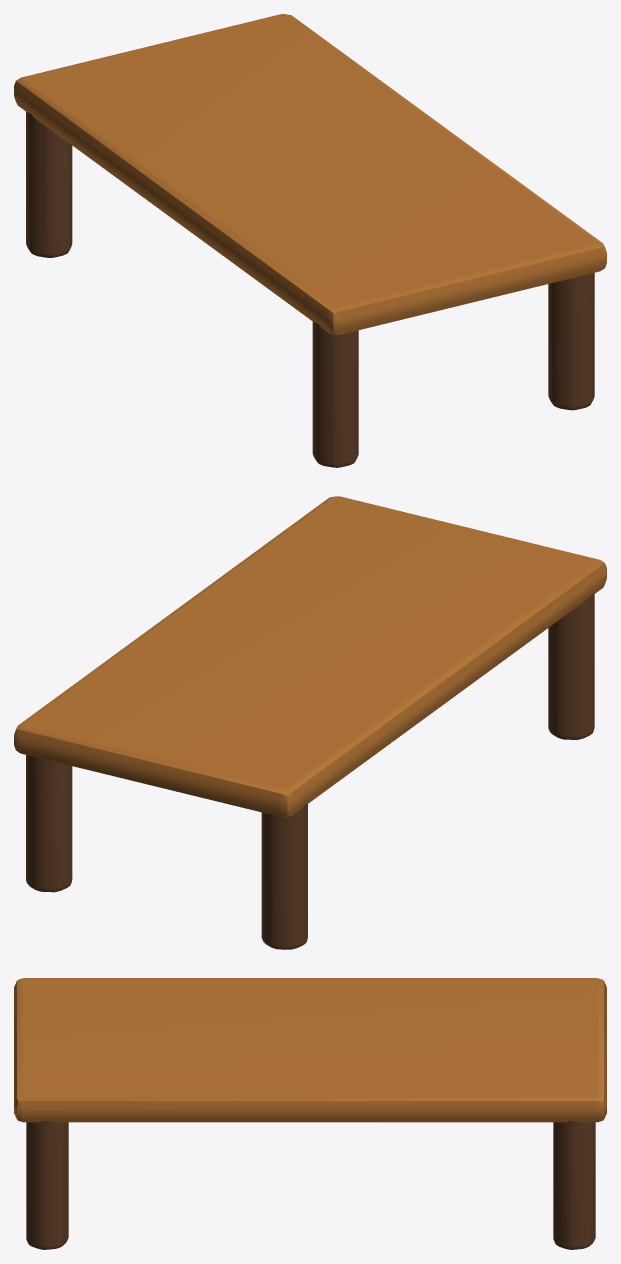
File: prop_dock.glb
3 views of the same model, one above another, from view 1: azimuth 30°, elevation 25°; view 2: azimuth 150°, elevation 25°; view 3: azimuth 270°, elevation 25° (orthographic). The views are drawn at different scales.
Parts seen in each view (by area): view 1: dock_deck, dock_pile0, dock_pile1, dock_pile2; view 2: dock_deck, dock_pile2, dock_pile3, dock_pile0; view 3: dock_deck, dock_pile1, dock_pile3.
Part boxes in pixels (<box>): dock_deck: <box>14,14,606,334</box>; dock_pile0: <box>312,322,358,467</box>; dock_pile1: <box>548,273,594,410</box>; dock_pile2: <box>26,112,72,257</box>; dock_deck: <box>14,496,606,817</box>; dock_pile2: <box>261,803,307,949</box>; dock_pile3: <box>26,755,72,892</box>; dock_pile0: <box>548,593,594,739</box>; dock_deck: <box>14,978,606,1122</box>; dock_pile1: <box>26,1120,68,1249</box>; dock_pile3: <box>553,1120,595,1249</box>.
Bounding box in the file's own units: 0.9 × 0.515 × 1.8.
